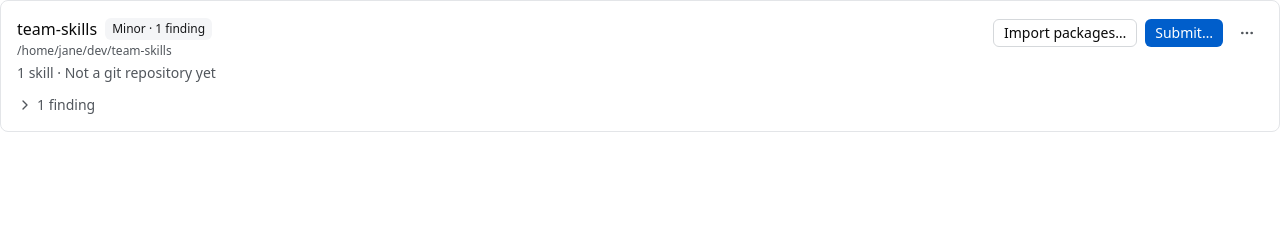
Test: a finding's place on a Mine row › shows the path alone where the finding has no line
Click the button "1 finding": (56, 105) [17,95,95,115]
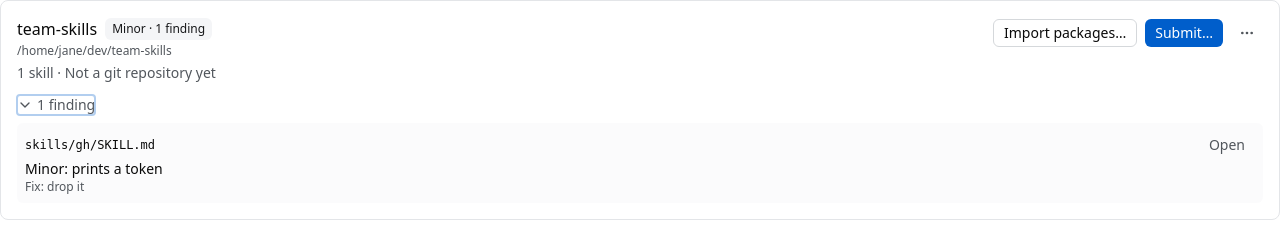
Check: the text "skills/gh/SKILL.md" is shown, box [25,137,155,153]
